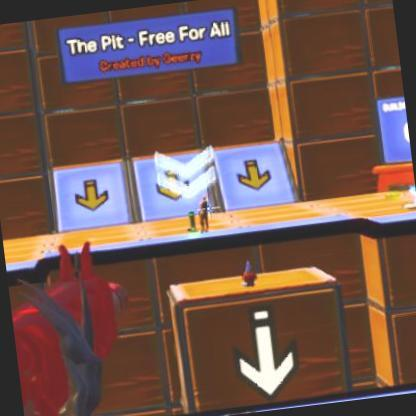person: (194, 192, 210, 224)
